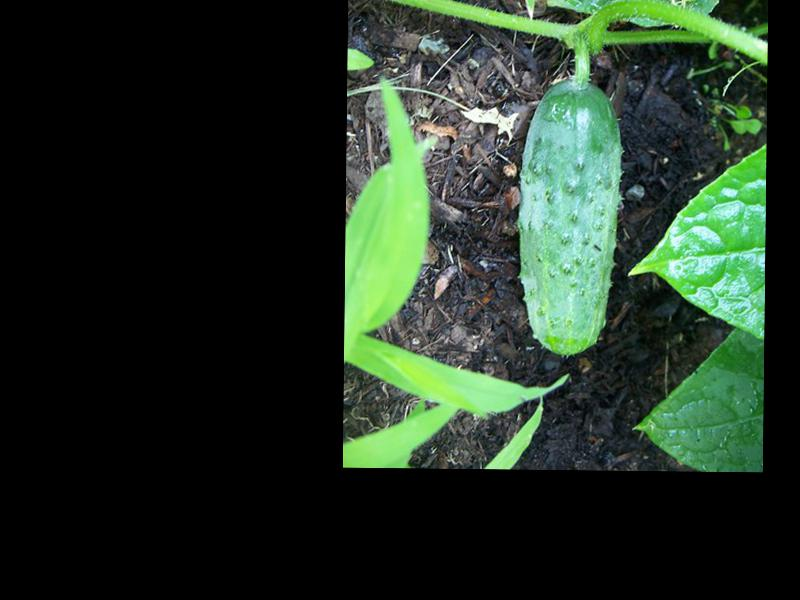Cucumber: (516, 79, 622, 359)
